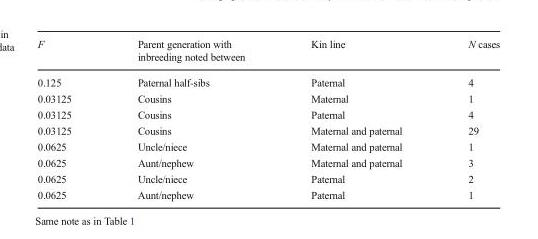table: (36, 36, 499, 200)
table column: (103, 36, 277, 200), (277, 36, 434, 200), (36, 36, 103, 200), (434, 36, 499, 200)
table column header: (36, 36, 499, 69)
table row: (36, 36, 499, 69), (36, 69, 499, 90), (36, 90, 499, 106), (36, 106, 499, 122), (36, 122, 499, 138), (36, 138, 499, 154), (36, 154, 499, 170), (36, 170, 499, 186), (36, 186, 499, 200)
